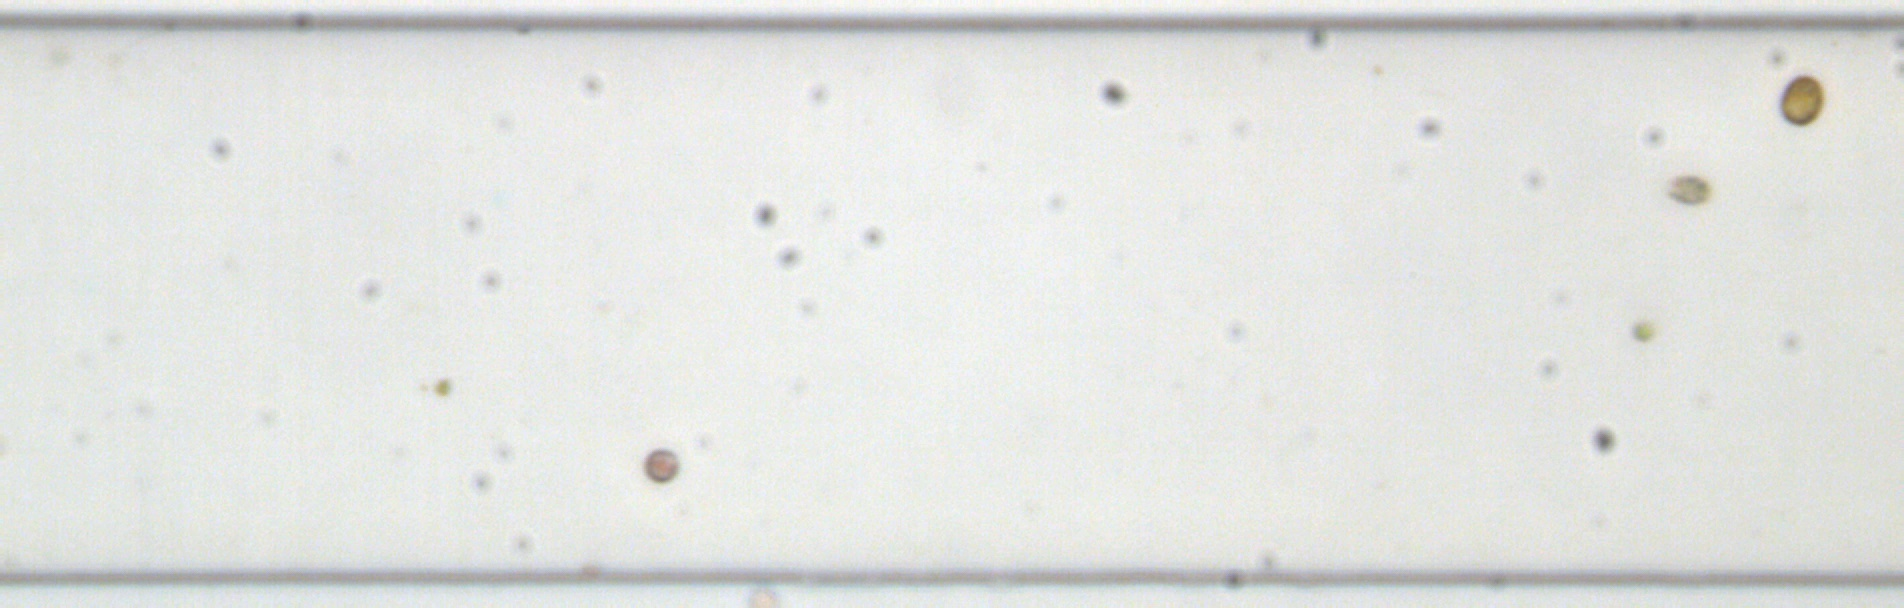Chlorella: (1631, 320, 1655, 343), (433, 375, 454, 396)
Dunaliella salina: (1665, 171, 1712, 208)
Effrenium: (1776, 72, 1825, 126)
Porphyridium: (639, 444, 681, 484)
